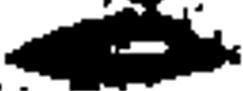Mouth: (7, 10, 242, 85)
